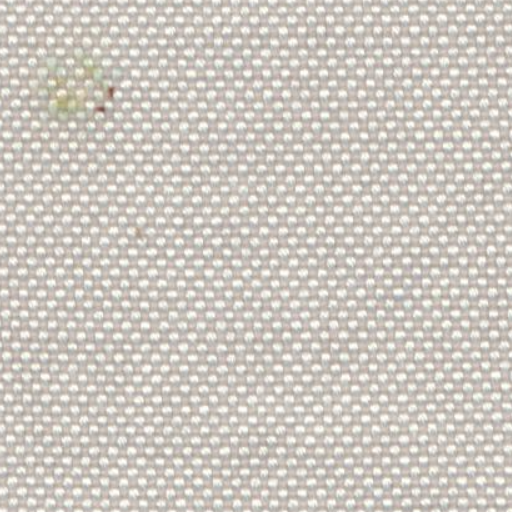WuZi: (28, 38, 125, 132), (124, 218, 150, 242)
